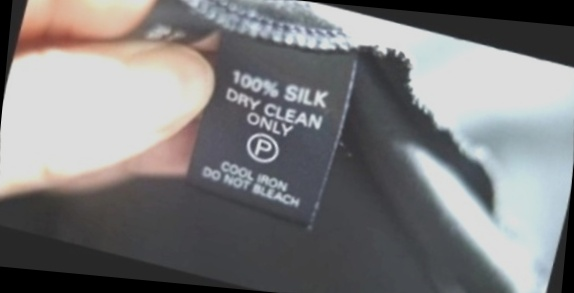dry_clean_any_solvent_except_trichloroethylene: (237, 122, 291, 173)
